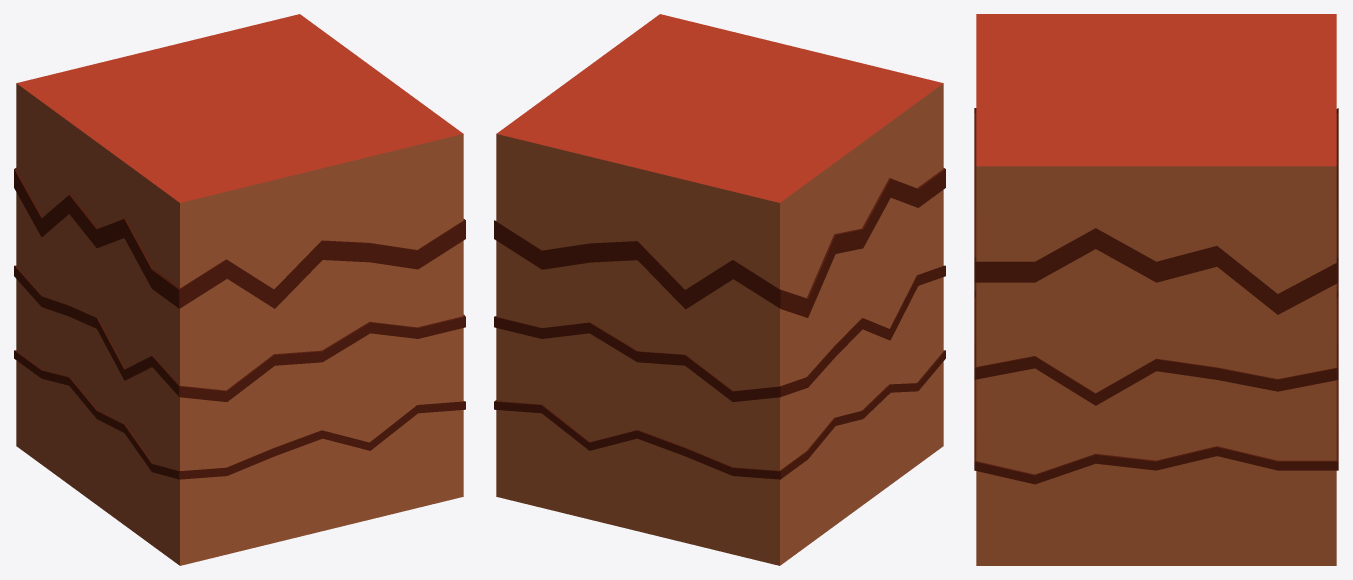
File: Wall_TileC.fbx
The picture shows the model from 3 angles, left to right: view 1: azimuth 30°, elevation 25°; view 2: azimuth 150°, elevation 25°; view 3: azimuth 270°, elevation 25°; orthographic projection. The views are drawn at different scales.
Parts seen in each view (by area): view 1: Wall_TileC; view 2: Wall_TileC; view 3: Wall_TileC.
Boxes of the visible parts, x1=… form: Wall_TileC: x1=14, y1=14, x2=465, y2=565; Wall_TileC: x1=494, y1=14, x2=945, y2=565; Wall_TileC: x1=974, y1=14, x2=1338, y2=565.
Bounding box in the file's own units: 2.02 × 2.02 × 2.45.
